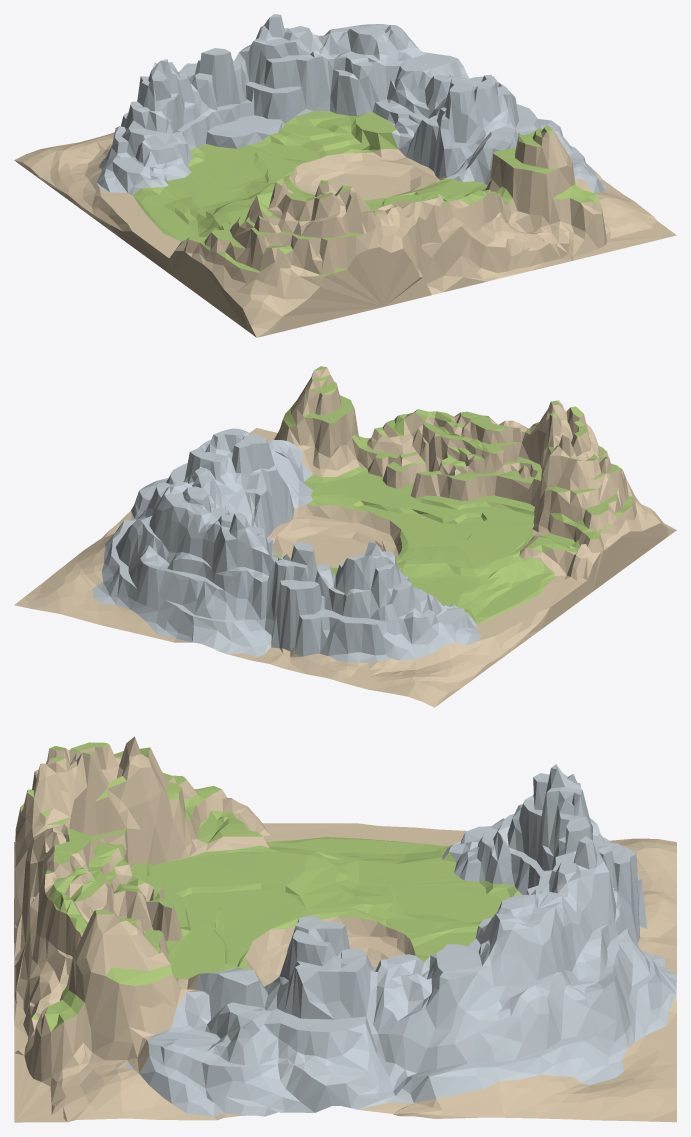
The model's file is f_howling_map(center pivot).fbx.
3 views of the same model, one above another, from view 1: azimuth 30°, elevation 25°; view 2: azimuth 150°, elevation 25°; view 3: azimuth 270°, elevation 25° (orthographic). The views are drawn at different scales.
Visible parts, largest first — view 1: howling_map_Terrain_Full; view 2: howling_map_Terrain_Full; view 3: howling_map_Terrain_Full.
Boxes of the visible parts, x1,y1,x2,y2 form: howling_map_Terrain_Full: [14, 14, 676, 337]; howling_map_Terrain_Full: [14, 366, 676, 707]; howling_map_Terrain_Full: [14, 736, 676, 1122].
Size of the model in its own units: 70096 by 18037 by 70038.
